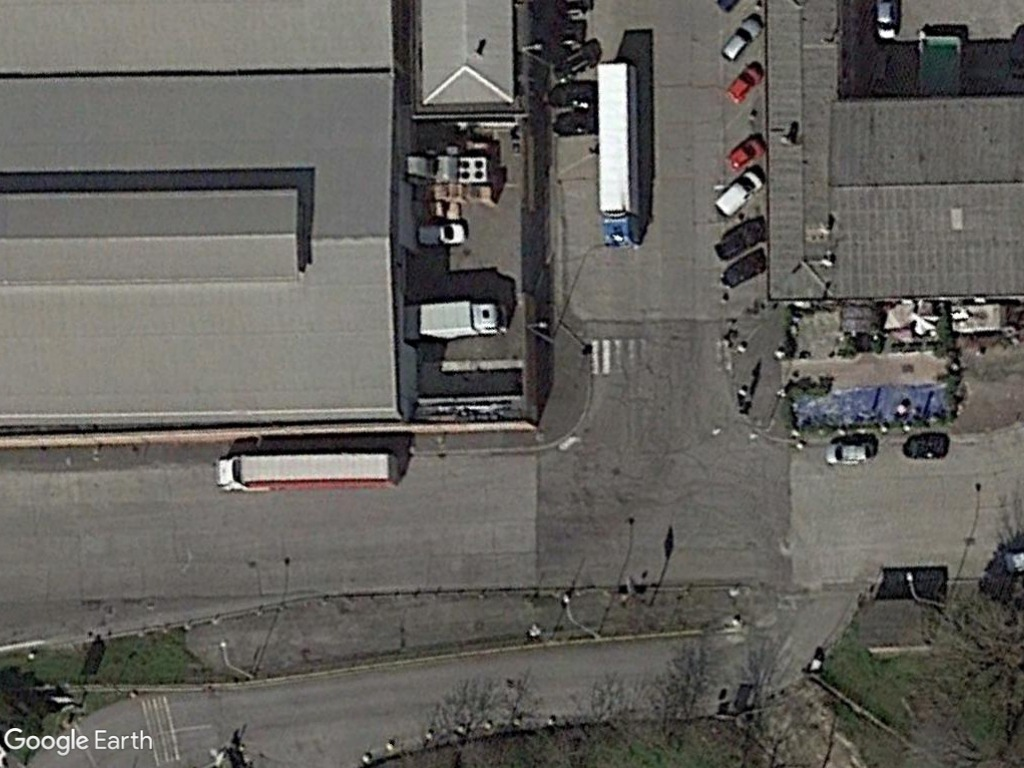car: (714, 14, 768, 64), (819, 436, 878, 469), (725, 133, 769, 173), (722, 65, 763, 102)
longvehicle: (592, 59, 648, 251), (212, 452, 405, 492)
truck: (403, 300, 511, 342)
van: (715, 168, 762, 218), (414, 221, 471, 249)
